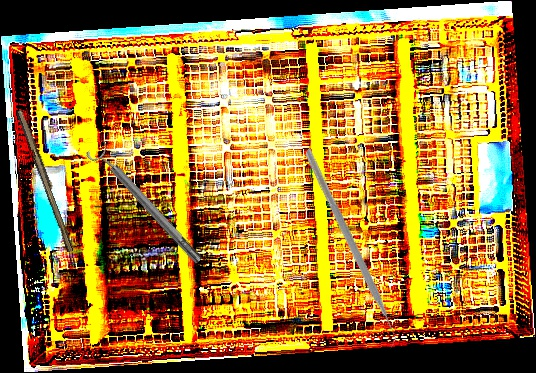Chopper: (237, 148, 459, 355)
Fixation Ring: (84, 137, 208, 271)
Scalpel Handle: (13, 108, 79, 253)
